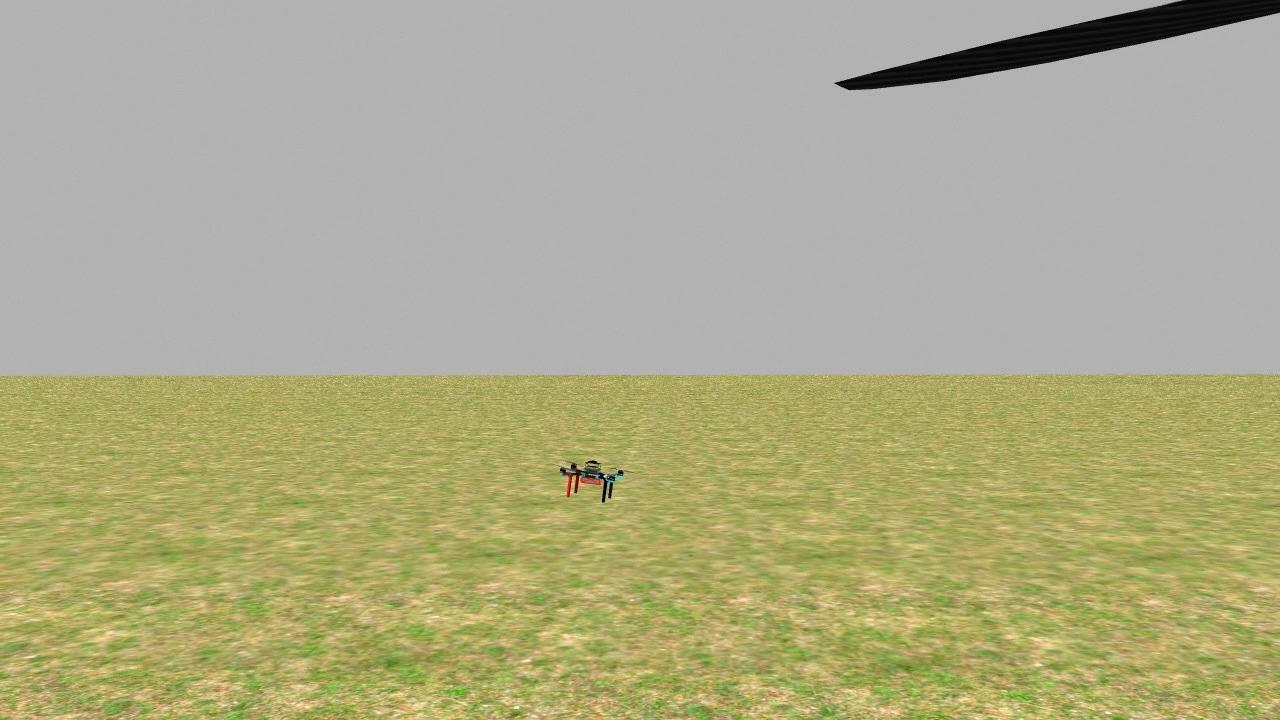UAV: (550, 445, 636, 514)
